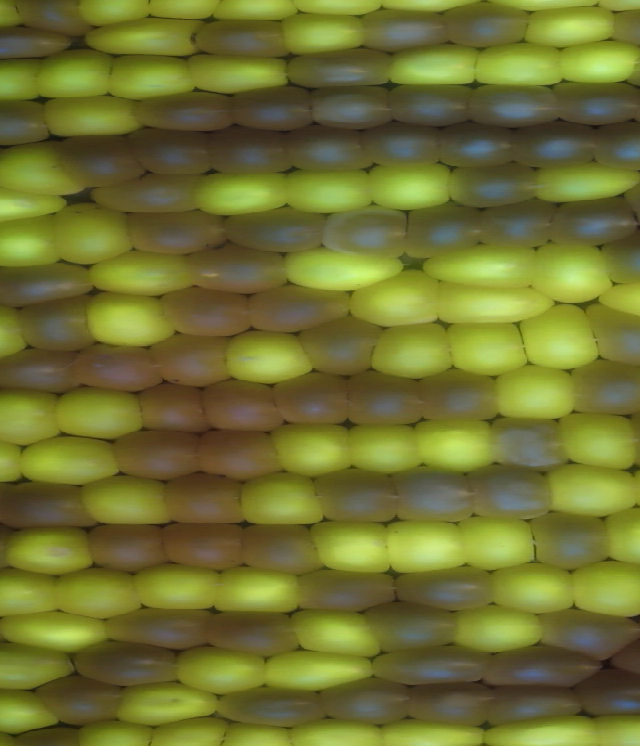fluorescent: (520, 301, 607, 375), (417, 238, 542, 288), (277, 239, 404, 287), (220, 325, 316, 387), (530, 240, 617, 307), (85, 288, 183, 346), (356, 266, 446, 329), (444, 316, 532, 380), (80, 472, 178, 529), (0, 139, 90, 201), (18, 432, 123, 485), (259, 645, 379, 691), (52, 386, 147, 444), (290, 603, 385, 660), (547, 460, 640, 518), (489, 556, 577, 616), (369, 318, 452, 380), (437, 280, 556, 323), (57, 202, 138, 265), (6, 523, 100, 577), (238, 472, 330, 527), (311, 516, 395, 576), (269, 417, 354, 476), (95, 248, 196, 297), (90, 17, 202, 61), (363, 159, 454, 213), (174, 641, 270, 692), (117, 680, 221, 727), (0, 635, 81, 695), (190, 169, 293, 216), (0, 609, 110, 653), (380, 517, 463, 575), (281, 166, 375, 217), (563, 409, 639, 472), (214, 564, 304, 617), (449, 601, 546, 650), (102, 51, 194, 102), (457, 514, 539, 571), (36, 95, 142, 139), (496, 361, 574, 420), (414, 417, 493, 475), (54, 565, 138, 619), (189, 45, 293, 88), (568, 557, 640, 619), (135, 560, 222, 611), (35, 48, 117, 102), (558, 37, 640, 88), (346, 420, 423, 472), (532, 160, 640, 197), (522, 7, 616, 49), (278, 9, 367, 53), (389, 43, 478, 87), (0, 387, 63, 449), (475, 45, 567, 85), (0, 214, 64, 266), (372, 719, 492, 746), (0, 566, 63, 616), (483, 718, 594, 746), (0, 678, 56, 733), (284, 718, 383, 746), (0, 182, 65, 223), (594, 275, 640, 328), (602, 507, 640, 569), (143, 719, 230, 746), (0, 299, 35, 362), (0, 54, 44, 104), (72, 720, 147, 746), (588, 709, 640, 746), (218, 720, 290, 746)
nonfluorescent: (0, 471, 101, 538), (541, 604, 640, 666), (370, 639, 489, 690), (314, 465, 407, 527), (69, 637, 181, 687), (359, 598, 459, 653), (296, 313, 383, 376), (342, 366, 427, 430), (272, 369, 357, 433), (472, 459, 557, 523), (101, 602, 215, 649), (484, 644, 605, 688), (209, 603, 304, 659), (35, 670, 128, 727), (83, 519, 179, 574), (389, 565, 501, 612), (12, 296, 104, 353), (249, 281, 356, 330), (531, 508, 612, 572), (390, 465, 480, 522), (90, 170, 200, 216), (399, 676, 496, 728), (294, 564, 400, 611), (414, 367, 501, 424), (238, 518, 322, 577), (225, 202, 330, 249), (201, 374, 286, 432), (163, 469, 246, 528), (316, 674, 412, 725), (115, 425, 207, 478), (149, 329, 239, 383), (191, 243, 288, 293), (215, 116, 294, 177), (286, 118, 375, 172), (138, 86, 236, 135), (317, 203, 411, 254), (548, 192, 640, 244), (215, 686, 326, 729), (447, 155, 537, 208), (128, 206, 226, 254), (191, 425, 281, 477), (483, 681, 591, 724), (548, 76, 636, 128), (53, 133, 144, 183), (158, 287, 252, 335), (494, 412, 570, 471), (307, 78, 393, 130), (73, 343, 159, 395), (469, 82, 564, 129), (475, 195, 559, 248), (402, 203, 481, 259), (291, 48, 396, 90), (137, 122, 217, 177), (385, 80, 474, 128), (0, 348, 84, 398), (228, 82, 315, 130), (163, 520, 246, 570), (137, 381, 209, 438), (356, 6, 449, 50), (439, 119, 520, 169), (517, 119, 596, 169), (580, 301, 640, 366), (573, 360, 640, 418), (193, 17, 291, 55), (0, 262, 99, 299), (446, 3, 527, 48), (367, 120, 446, 165), (579, 661, 640, 717), (0, 17, 72, 61), (0, 96, 53, 146), (595, 118, 640, 174), (25, 2, 90, 40), (606, 225, 640, 288)
